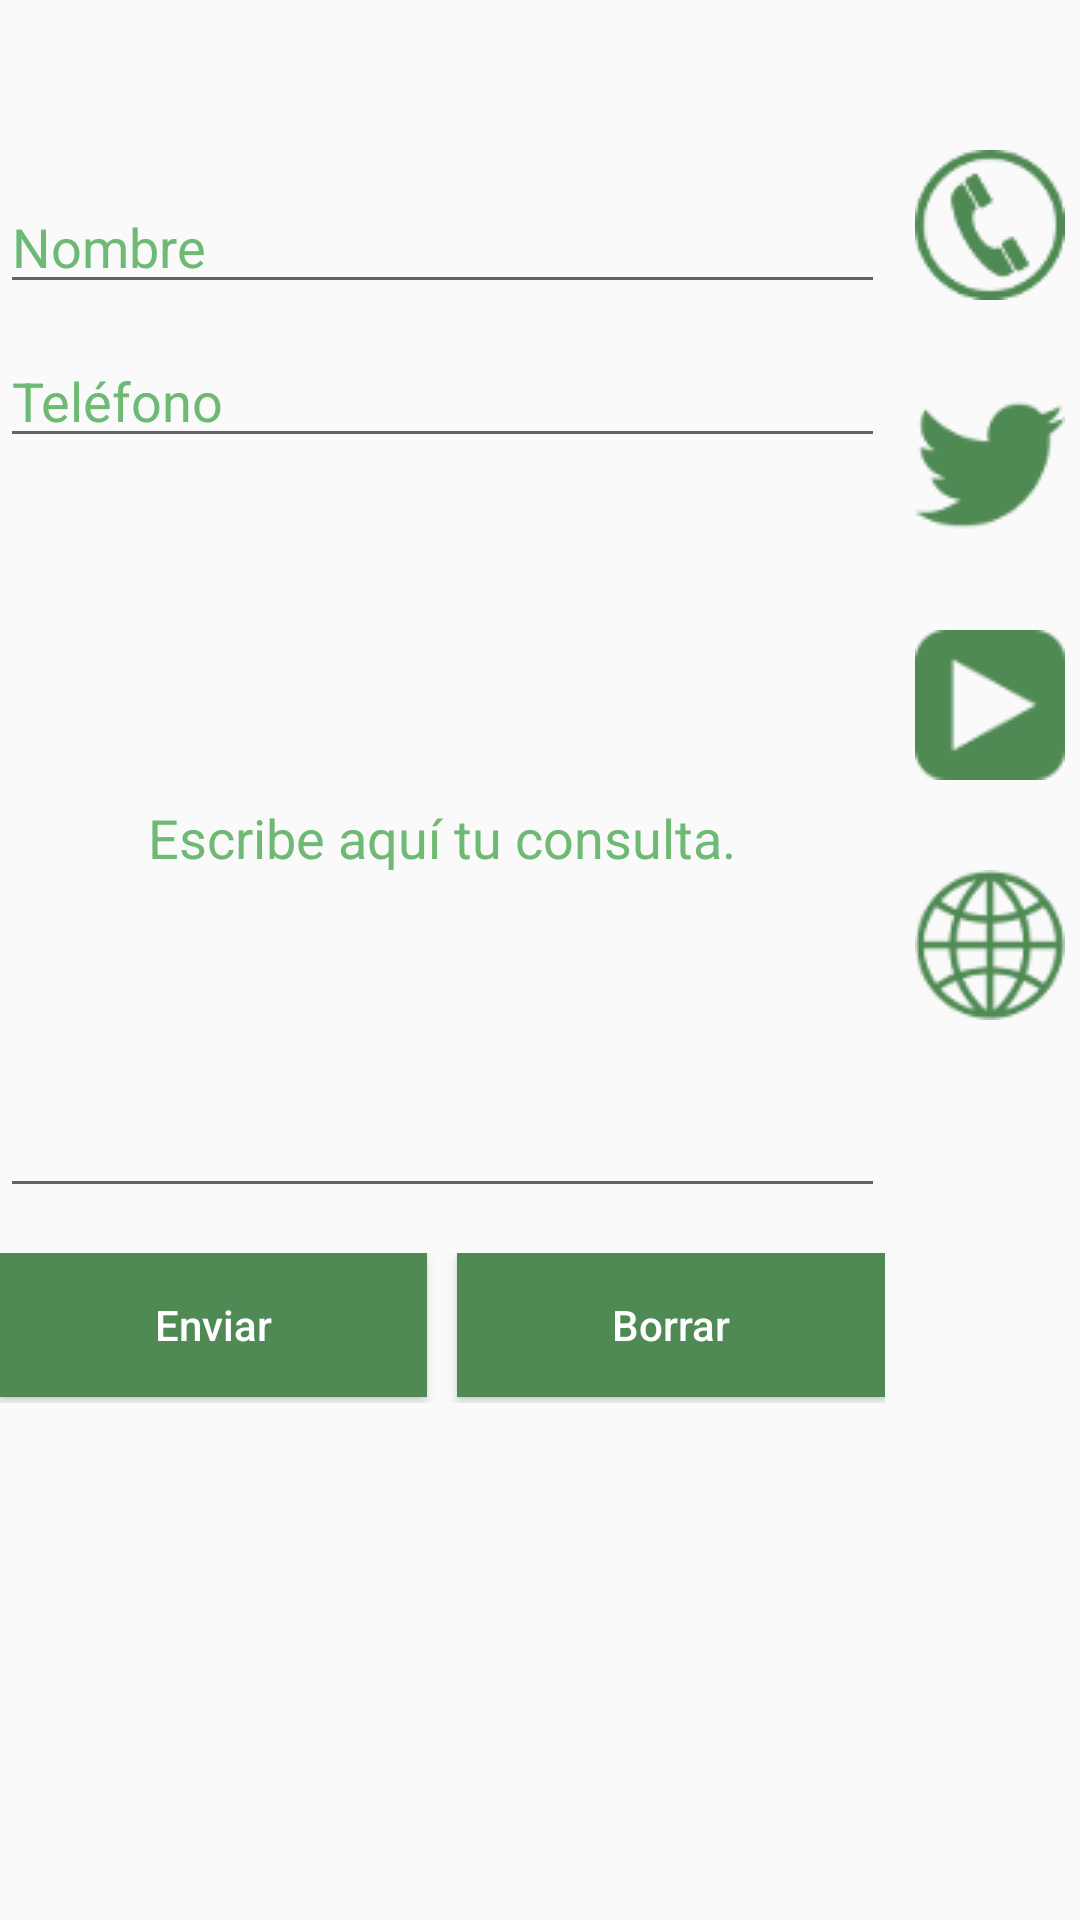

Named icons in this screenshot (1080×1920) and their centers, (x=x, y=y):
phone: (x=990, y=225)
web: (x=990, y=945)
